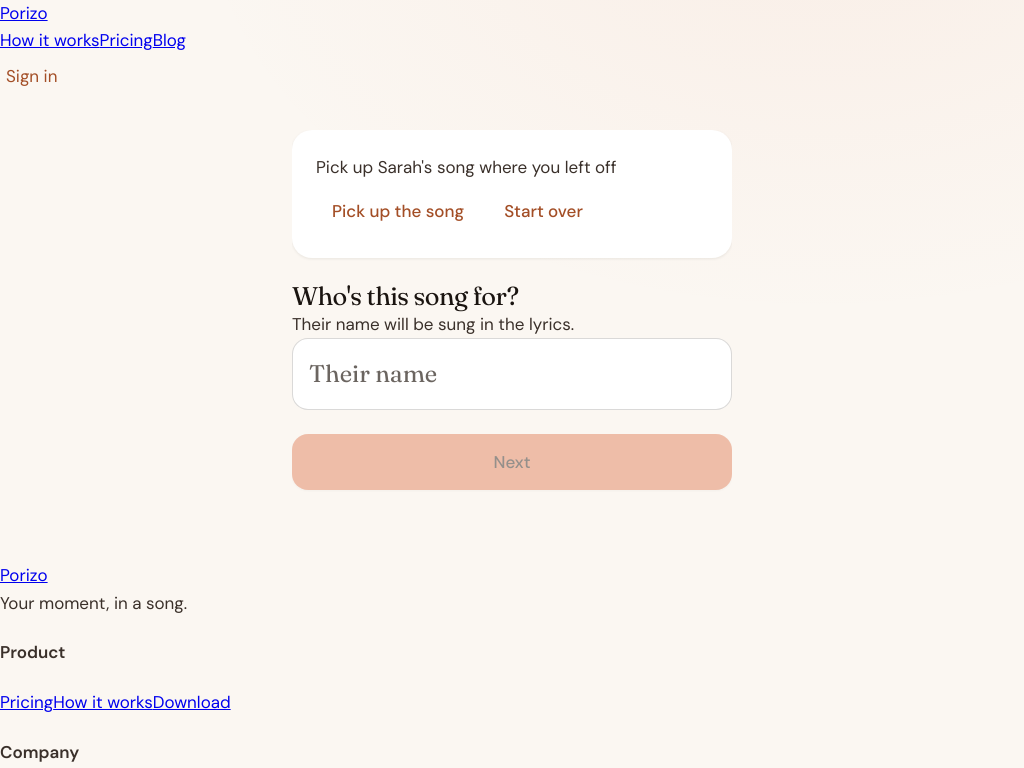
Test: initial funnel route › reattaches polling when a saved theater job is resumed
The image size is (1024, 768).
Click the button "Pick up the song". click: (398, 212)
box: [316,190,480,234]
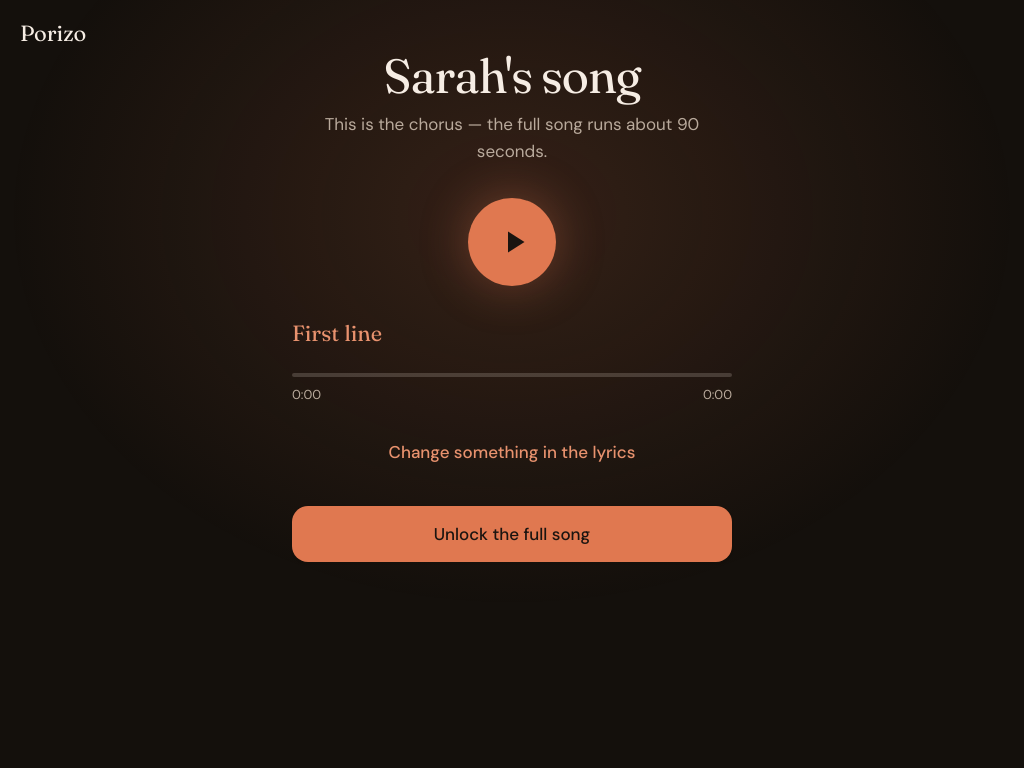
Expected: the button named "Play preview" is shown, [468,198,556,286]
